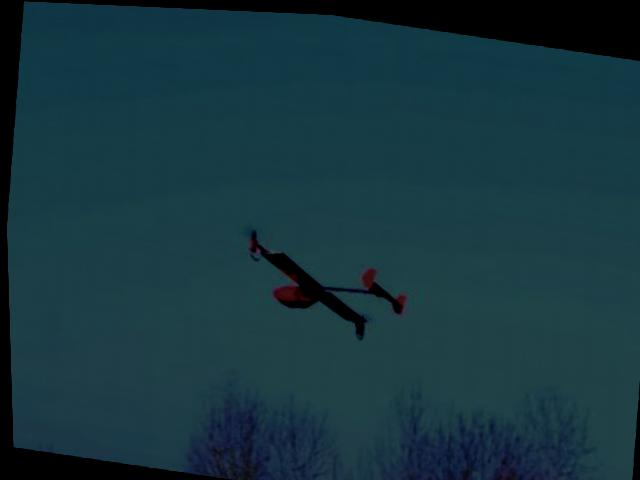uav: (218, 216, 420, 350)
